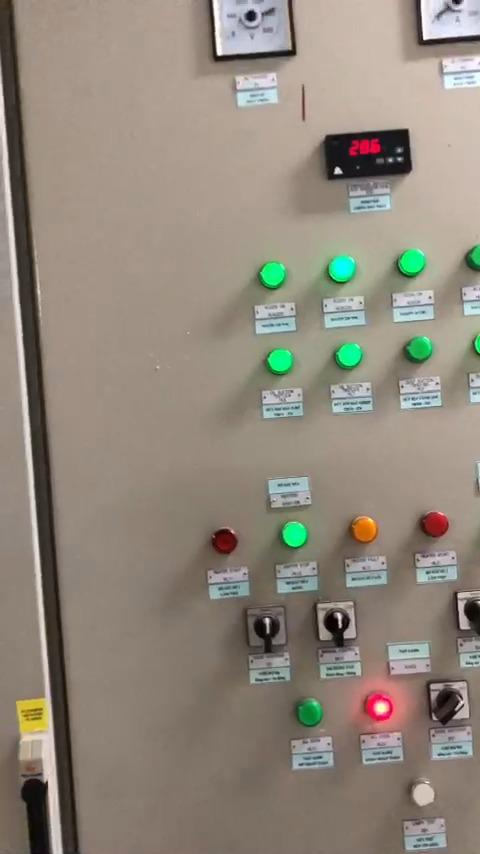led: (207, 521, 240, 558), (394, 244, 429, 278), (289, 695, 324, 729), (360, 686, 393, 721), (417, 506, 450, 539), (404, 775, 435, 809), (258, 261, 289, 293), (349, 516, 379, 546), (278, 519, 308, 549), (404, 335, 434, 364), (333, 341, 363, 370), (329, 255, 358, 284), (265, 344, 294, 373), (463, 240, 480, 270)
twist: (244, 604, 286, 650), (313, 599, 354, 645), (427, 680, 469, 724), (453, 589, 480, 631)
